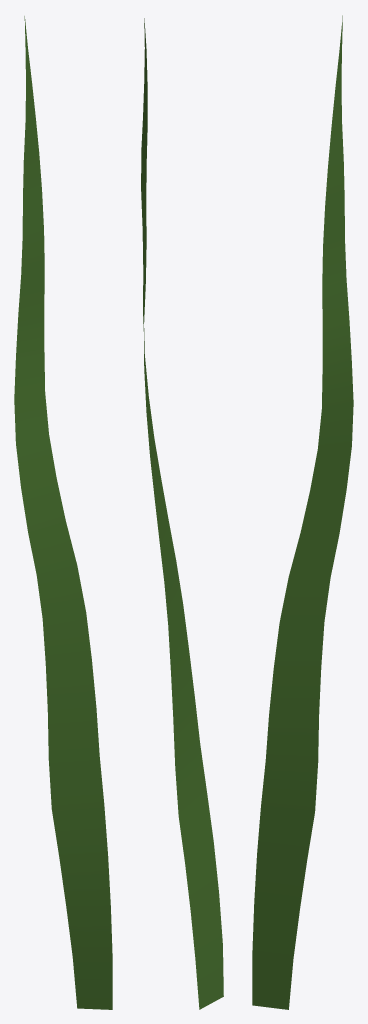
Rendered from plant_swamp_kelp_giant_C_solo_D.fbx.
3 views of the same model, side by side, from view 1: azimuth 90°, elevation 25°; view 2: azimuth 150°, elevation 25°; view 3: azimuth 270°, elevation 25° (orthographic). The views are drawn at different scales.
Parts seen in each view (by area): view 1: plant_swamp_kelp_giant_C_solo_D; view 2: plant_swamp_kelp_giant_C_solo_D; view 3: plant_swamp_kelp_giant_C_solo_D.
Boxes of the visible parts, x1,y1,x2,y2 form: plant_swamp_kelp_giant_C_solo_D: [14, 16, 112, 1009]; plant_swamp_kelp_giant_C_solo_D: [141, 18, 223, 1009]; plant_swamp_kelp_giant_C_solo_D: [252, 15, 353, 1009].
Size of the model in its own units: 22.17 by 461 by 41.91.
